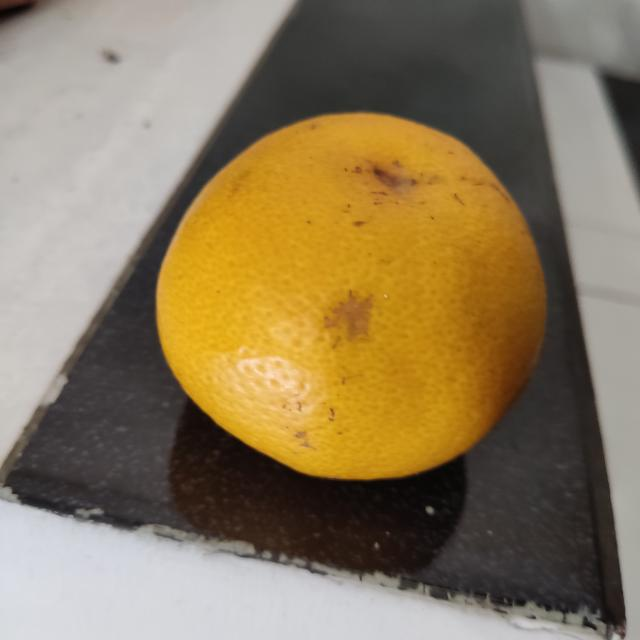orange: (150, 110, 548, 481)
